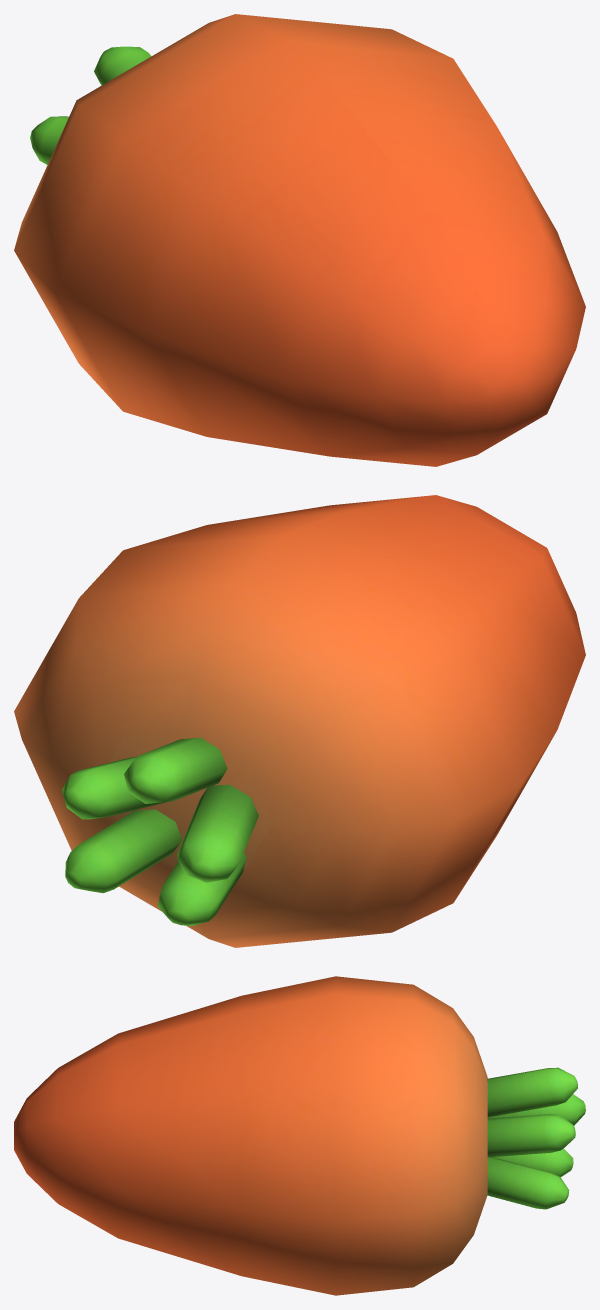
File: carrot.fbx
The picture shows the model from 3 angles, top to bottom: view 1: azimuth 30°, elevation 25°; view 2: azimuth 150°, elevation 25°; view 3: azimuth 270°, elevation 25°; orthographic projection. The views are drawn at different scales.
Parts seen in each view (by area): view 1: carrot; view 2: carrot; view 3: carrot.
Boxes of the visible parts, left/top/right/bottom form: carrot: left=14, top=14, right=585, bottom=466; carrot: left=14, top=495, right=585, bottom=947; carrot: left=14, top=976, right=585, bottom=1295.
Size of the model in its own units: 0.1709 by 0.1346 by 0.246.
Materials: 1 (1 with a texture image).
